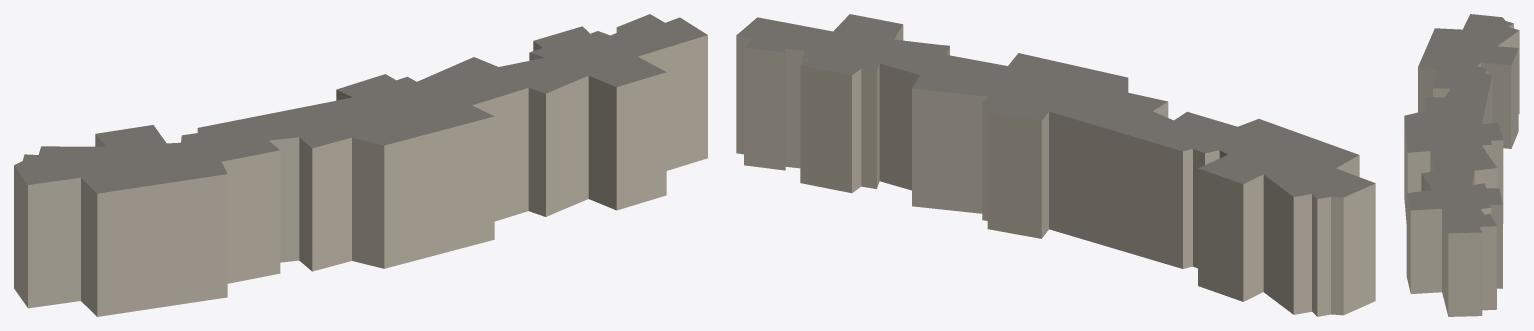
The picture shows the model from 3 angles, left to right: view 1: azimuth 30°, elevation 25°; view 2: azimuth 150°, elevation 25°; view 3: azimuth 270°, elevation 25°; orthographic projection. The views are drawn at different scales.
Visible parts, largest first — view 1: HP-w1512530034; view 2: HP-w1512530034; view 3: HP-w1512530034.
Part boxes in pixels (x1,y1,x2,y2): HP-w1512530034: (14, 14, 707, 316); HP-w1512530034: (736, 14, 1375, 316); HP-w1512530034: (1404, 14, 1519, 316).
Bounding box in the file's own units: 101 × 18 × 22.47.
